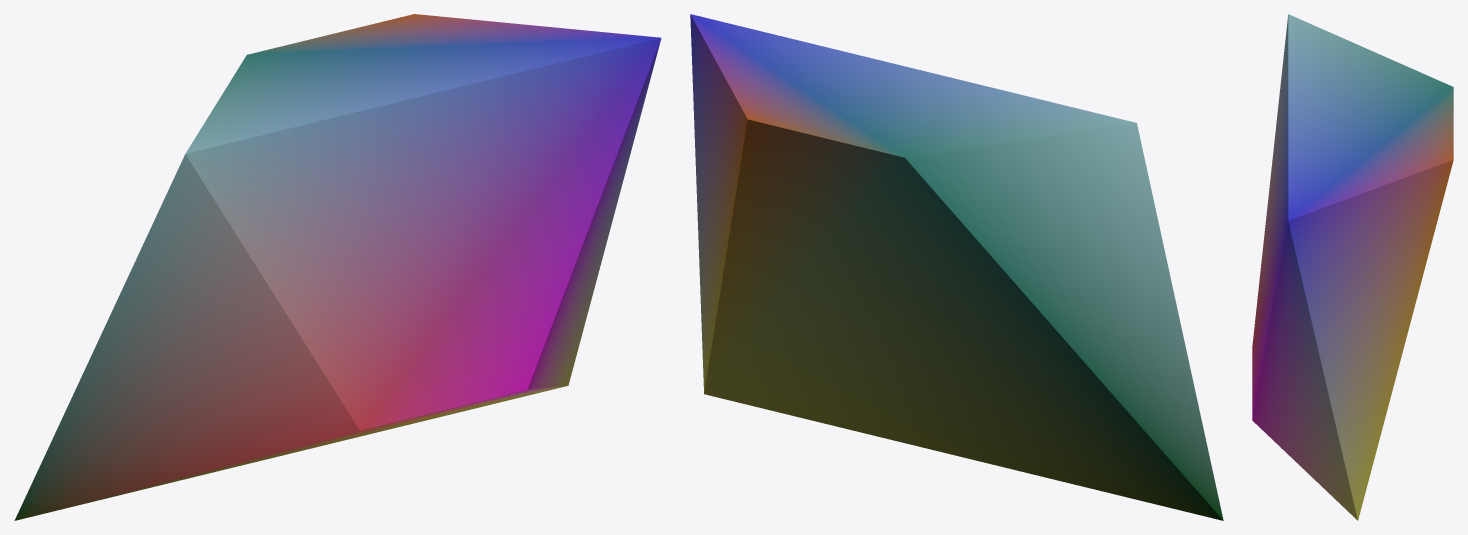
3 views of the same model, side by side, from view 1: azimuth 30°, elevation 25°; view 2: azimuth 150°, elevation 25°; view 3: azimuth 270°, elevation 25° (orthographic). The views are drawn at different scales.
Parts seen in each view (by area): view 1: Cube; view 2: Cube; view 3: Cube.
Part boxes in pixels (bbox=[...]): Cube: bbox=[14, 14, 661, 520]; Cube: bbox=[690, 14, 1223, 520]; Cube: bbox=[1252, 14, 1453, 520].
Bounding box in the file's own units: 2169 × 1240 × 700.
